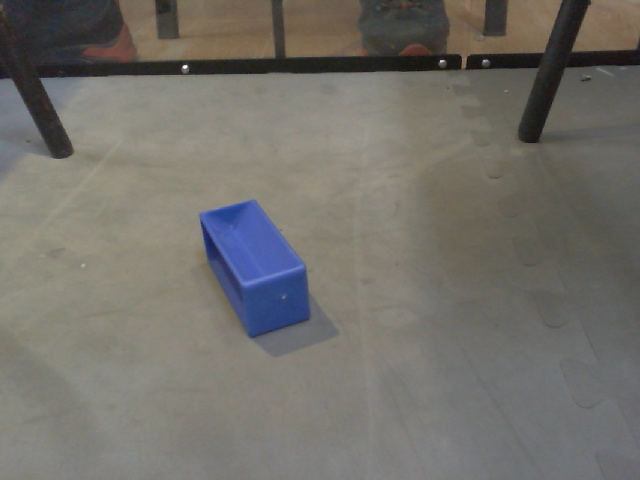BlueSample: (193, 193, 317, 343)
